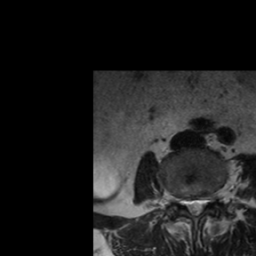CCS_stenosis: (191, 193, 199, 219)
LFS_normal: (208, 187, 217, 211)
LLS_normal: (199, 194, 207, 216)
RFS_stenosis: (175, 189, 185, 210)
RLS_stenosis: (184, 193, 191, 216)
